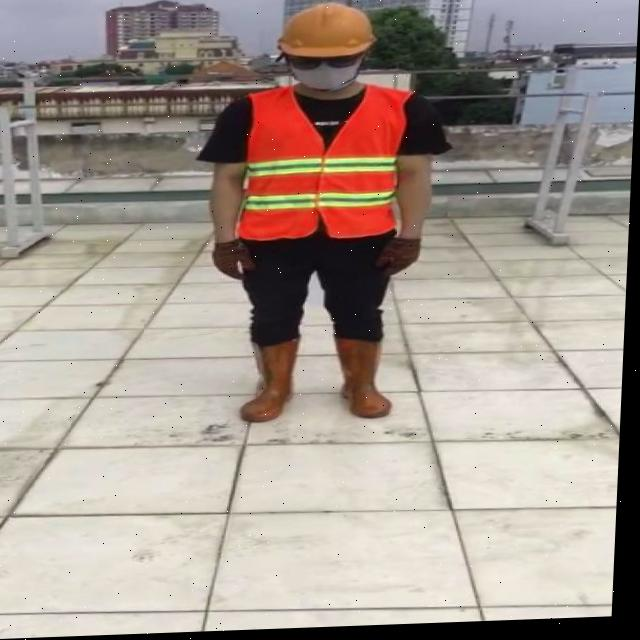Gloves: (215, 239, 260, 283), (378, 237, 424, 280)
Safety-Boot: (336, 336, 400, 422), (244, 337, 305, 424)
Safety-Vest: (238, 83, 417, 246)
